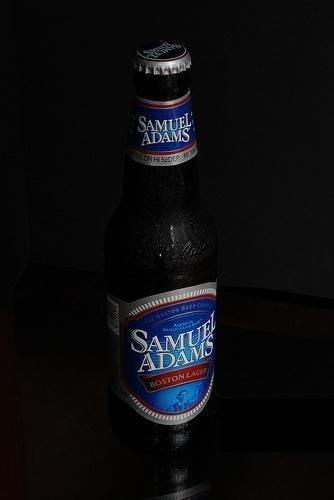bottle-glass: (96, 38, 225, 454)
